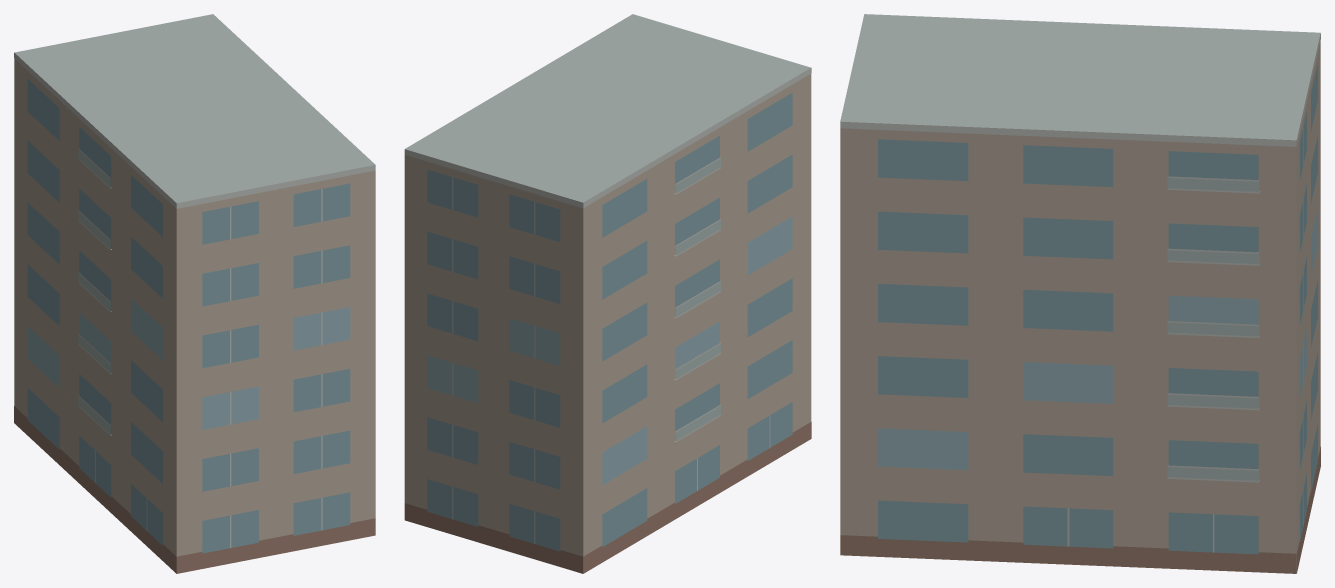
The model's file is survey-upis-32537443.glb.
The picture shows the model from 3 angles, left to right: view 1: azimuth 30°, elevation 25°; view 2: azimuth 150°, elevation 25°; view 3: azimuth 270°, elevation 25°; orthographic projection. The views are drawn at different scales.
Parts seen in each view (by area): view 1: survey-upis-32537443.tmp; view 2: survey-upis-32537443.tmp; view 3: survey-upis-32537443.tmp.
Part boxes in pixels (x1,y1,x2,y2): survey-upis-32537443.tmp: [14, 14, 375, 573]; survey-upis-32537443.tmp: [404, 14, 811, 573]; survey-upis-32537443.tmp: [840, 14, 1320, 573].
Size of the model in its own units: 10.04 by 16.05 by 16.14.
